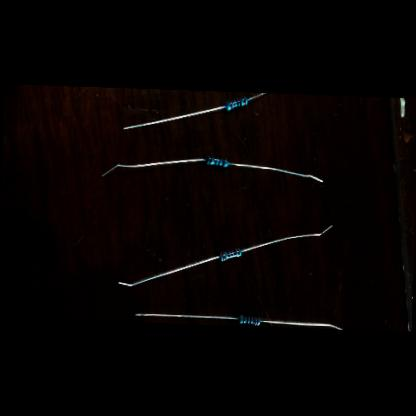resistor: (224, 96, 247, 112), (219, 248, 240, 262), (204, 155, 226, 167), (237, 316, 259, 326)
wire: (118, 252, 218, 289), (122, 102, 224, 133), (242, 222, 332, 256), (100, 155, 204, 181), (228, 162, 323, 183), (134, 314, 236, 322), (260, 320, 342, 329), (248, 92, 266, 101)
